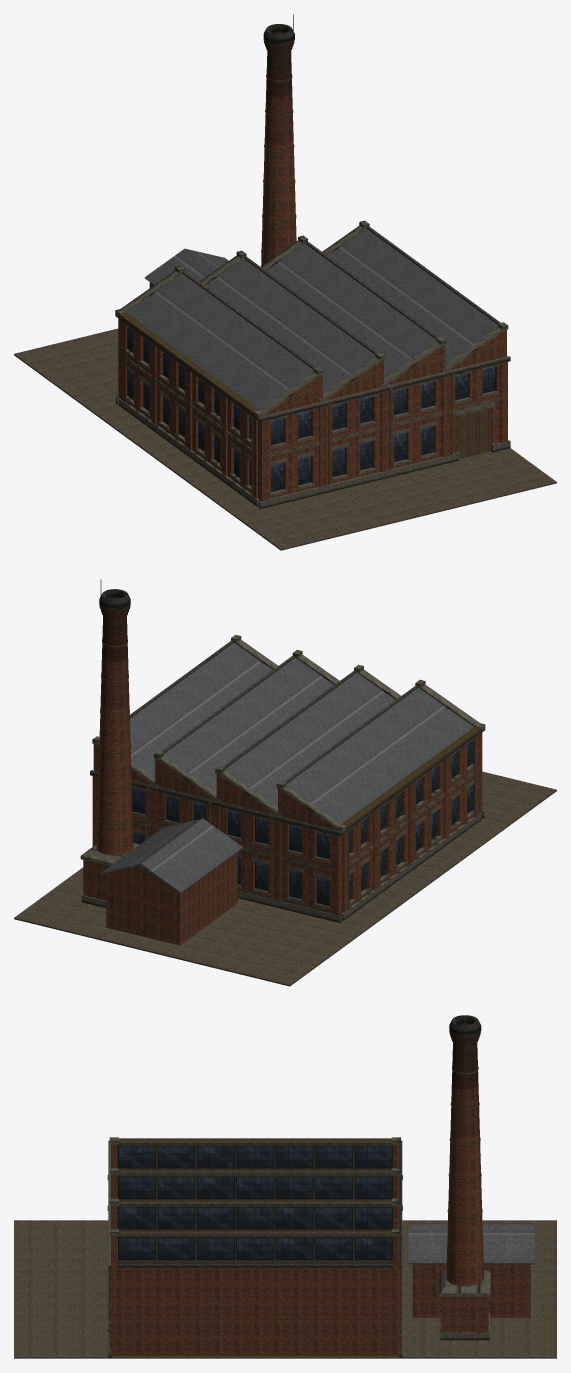
The model's file is no-1-quiet-factory.glb.
3 renders of one model, top to bottom at view 1: azimuth 30°, elevation 25°; view 2: azimuth 150°, elevation 25°; view 3: azimuth 270°, elevation 25°, orthographic.
Visible parts, largest first — view 1: no-1-mill-roof, no-1-mill-walls, no-1-yard-setts, no-1-mill-stonework, no-1-chimney, no-1-mill-ironwork, no-1-boiler-house-building, no-1-loading-door-right, no-1-loading-door-left; view 2: no-1-mill-roof, no-1-yard-setts, no-1-mill-walls, no-1-boiler-house-building, no-1-mill-stonework, no-1-chimney, no-1-mill-ironwork; view 3: no-1-mill-walls, no-1-yard-setts, no-1-chimney, no-1-boiler-house-building, no-1-mill-roof, no-1-mill-ironwork, no-1-mill-stonework, no-1-north-light-4-panel-7, no-1-north-light-4-panel-5, no-1-north-light-4-panel-4, no-1-north-light-4-panel-2, no-1-north-light-2-panel-4 (+23 smaller).
Part boxes in pixels (x1,y1,x2,y2): no-1-mill-roof: (127,226,500,409); no-1-mill-walls: (118,318,507,501); no-1-yard-setts: (14,328,556,550); no-1-mill-stonework: (115,220,510,508); no-1-chimney: (261,14,296,266); no-1-mill-ironwork: (119,313,454,495); no-1-boiler-house-building: (144,248,228,287); no-1-loading-door-right: (474,407,491,454); no-1-loading-door-left: (458,412,474,458); no-1-mill-roof: (129,640,473,823); no-1-yard-setts: (14,771,556,986); no-1-mill-walls: (92,732,482,915); no-1-boiler-house-building: (101,818,242,945); no-1-mill-stonework: (90,634,485,922); no-1-chimney: (80,579,139,907); no-1-mill-ironwork: (146,727,481,909); no-1-mill-walls: (109,1144,401,1356); no-1-yard-setts: (14,1220,556,1358); no-1-chimney: (439,1015,490,1340); no-1-boiler-house-building: (408,1223,534,1317); no-1-mill-roof: (117,1141,393,1263); no-1-mill-ironwork: (107,1138,402,1321); no-1-mill-stonework: (107,1137,402,1357); no-1-north-light-4-panel-7: (354,1237,392,1260); no-1-north-light-4-panel-5: (275,1237,313,1260); no-1-north-light-4-panel-4: (236,1237,274,1260); no-1-north-light-4-panel-2: (157,1237,195,1260); no-1-north-light-2-panel-4: (236,1176,274,1199).
Size of the model in its own units: 24.7 by 27.1 by 41.4.
22 materials, 15 textured.
